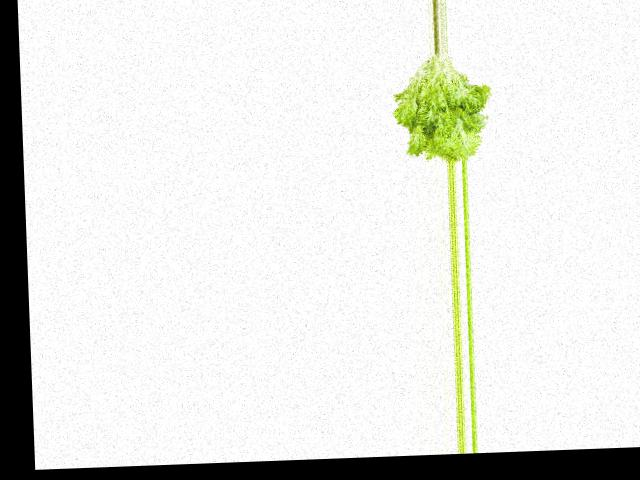lettuce: (386, 48, 494, 164)
